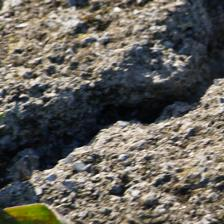Crack: (3, 35, 210, 154)
